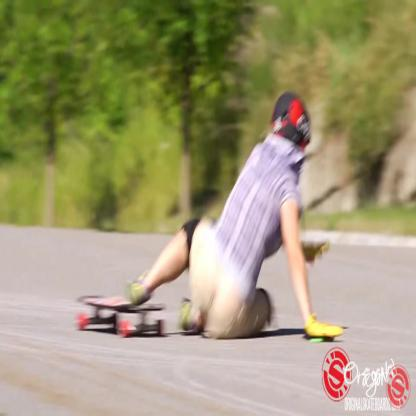Fall_Down: (125, 92, 347, 344)
